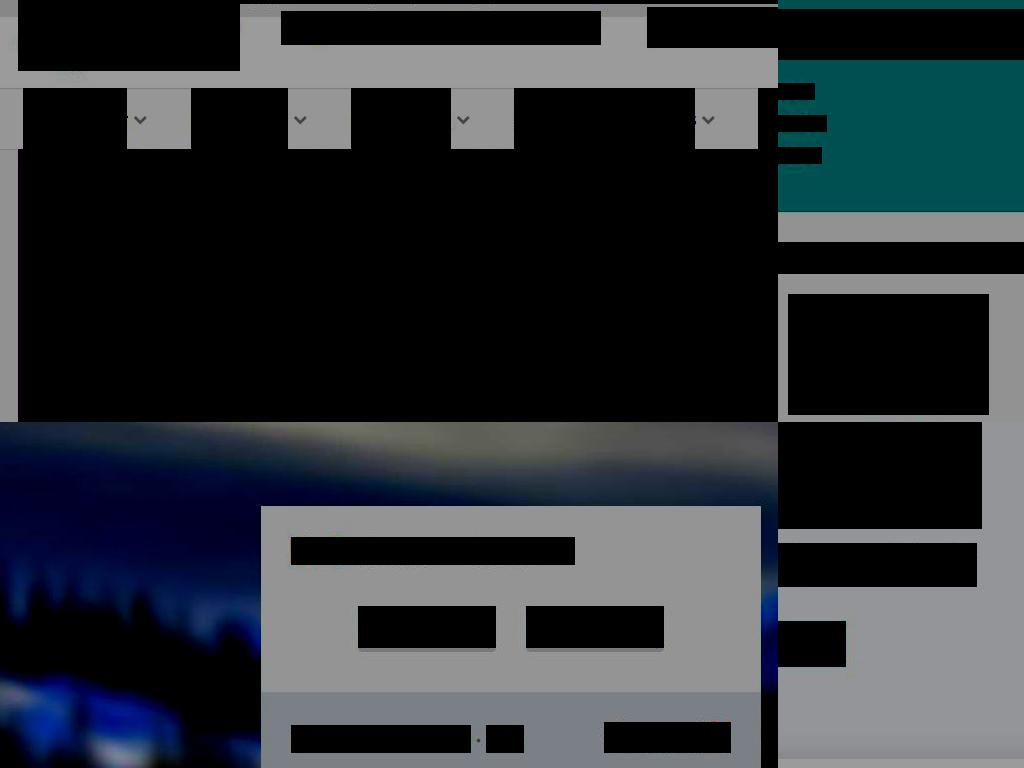button: (18, 149, 778, 422), (18, 0, 240, 71), (358, 606, 496, 648), (526, 606, 664, 648), (778, 621, 846, 667)
field: (647, 7, 778, 48)
heading: (778, 422, 982, 529), (778, 9, 1024, 60), (281, 11, 601, 45)
image: (68, 149, 568, 422), (788, 294, 989, 415), (18, 0, 240, 71), (291, 537, 575, 565), (604, 722, 731, 753), (550, 187, 598, 236), (54, 400, 118, 422), (508, 165, 532, 190)
link: (514, 88, 695, 149), (23, 88, 127, 149), (351, 88, 451, 149), (191, 88, 288, 149), (291, 725, 471, 753), (758, 88, 778, 149), (486, 725, 524, 753), (518, 0, 606, 4), (106, 0, 175, 4)
text: (599, 210, 778, 310), (599, 315, 778, 364), (778, 543, 977, 587), (778, 242, 1024, 274), (599, 387, 778, 422), (174, 0, 518, 4), (778, 634, 821, 654), (778, 567, 803, 587), (605, 0, 610, 4)
